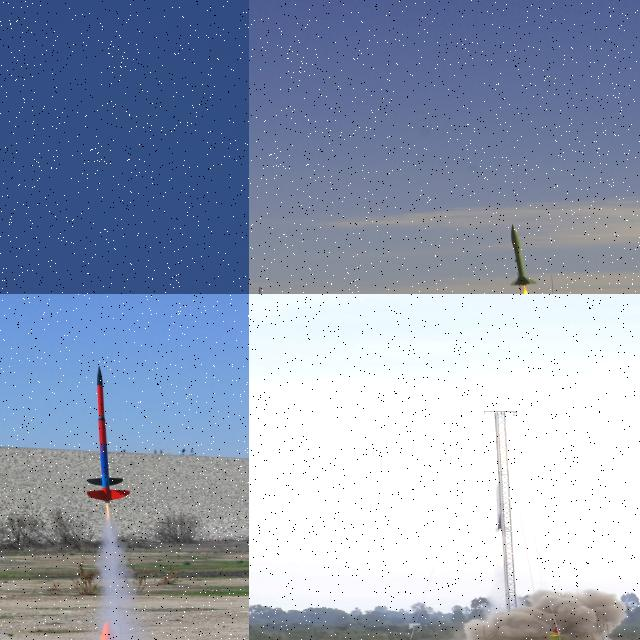Rocket: (86, 365, 132, 503), (510, 223, 538, 287), (495, 482, 504, 532)
